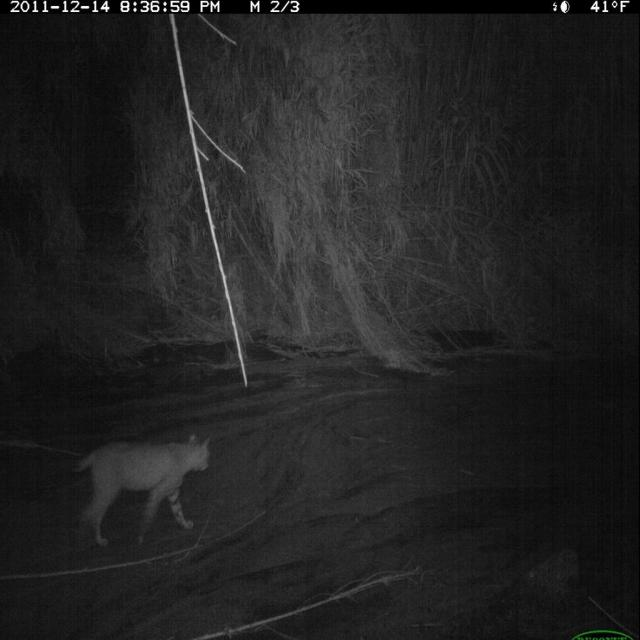bobcat: (70, 436, 217, 551)
